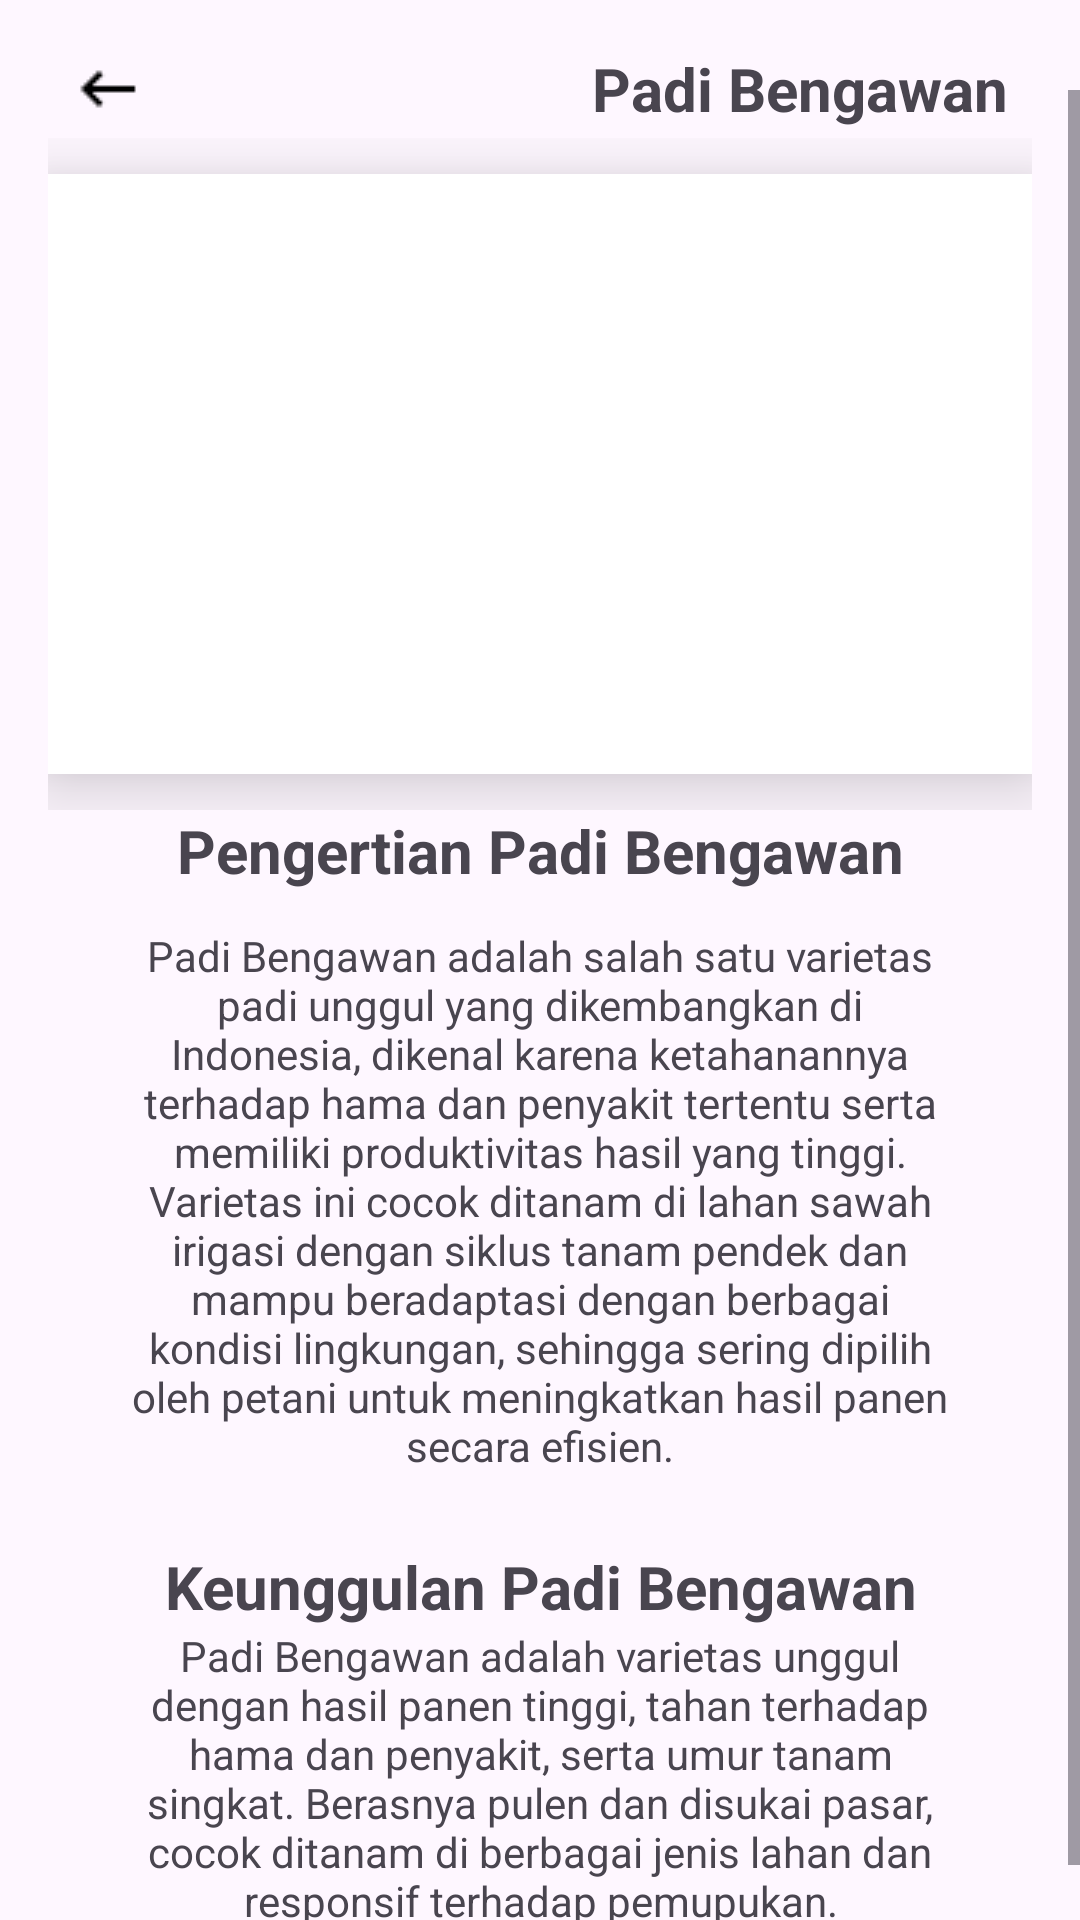

Named icons in this screenshot (1080px×1920px) and their centers, (x,y):
keyboard backspace: (108,89)
